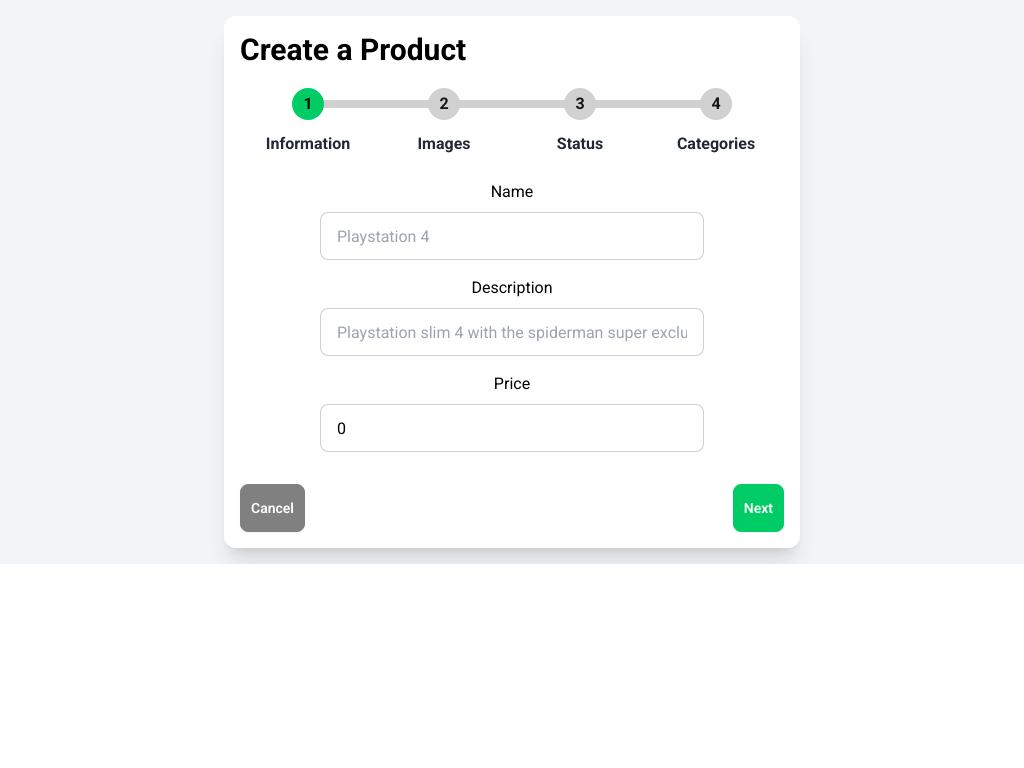
Test: Product Creation Page › should handle form submission with empty inputs
Click the button "Next". click: (758, 508)
box: x1=733 y1=484 x2=784 y2=532
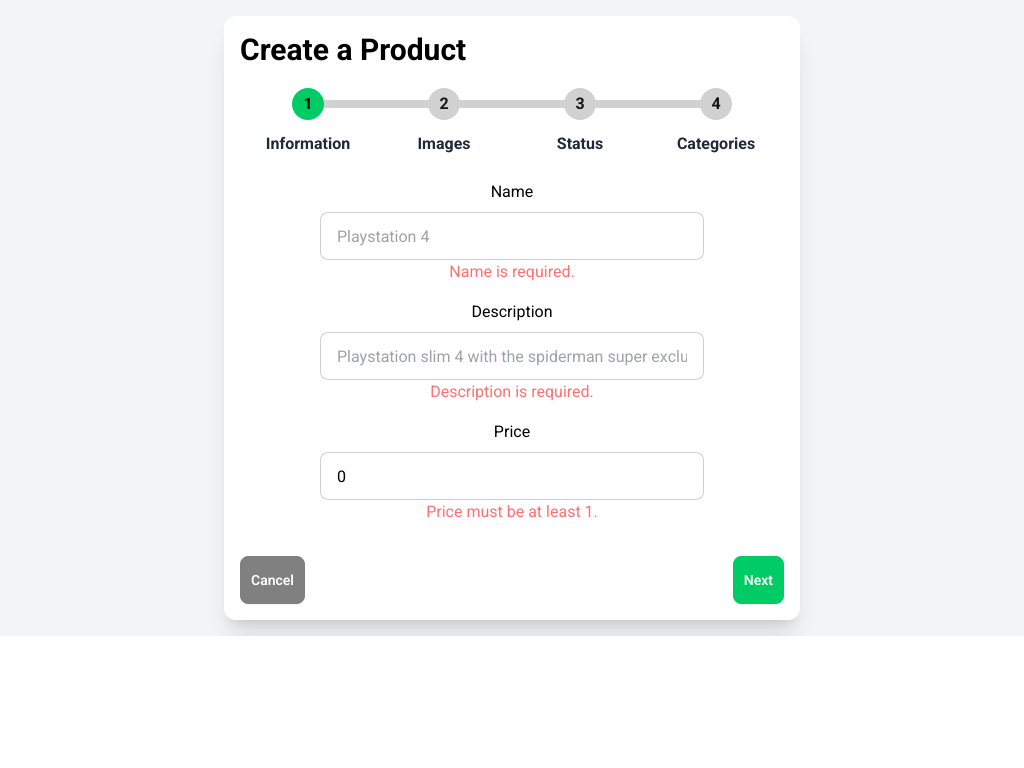
Expected: the text "Name is required." is shown, x1=449 y1=260 x2=575 y2=284
Expected: the text "Description is required." is shown, x1=430 y1=380 x2=594 y2=404
